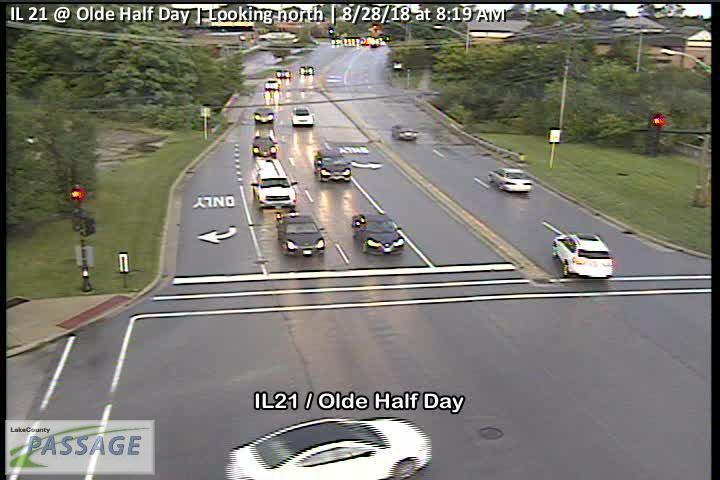SUV: (551, 233, 614, 279), (252, 157, 298, 212), (313, 148, 352, 183), (290, 106, 314, 126)
Sedan: (352, 213, 405, 255), (277, 215, 326, 256), (488, 167, 534, 192), (251, 135, 277, 157), (392, 123, 418, 141), (253, 107, 274, 123)
